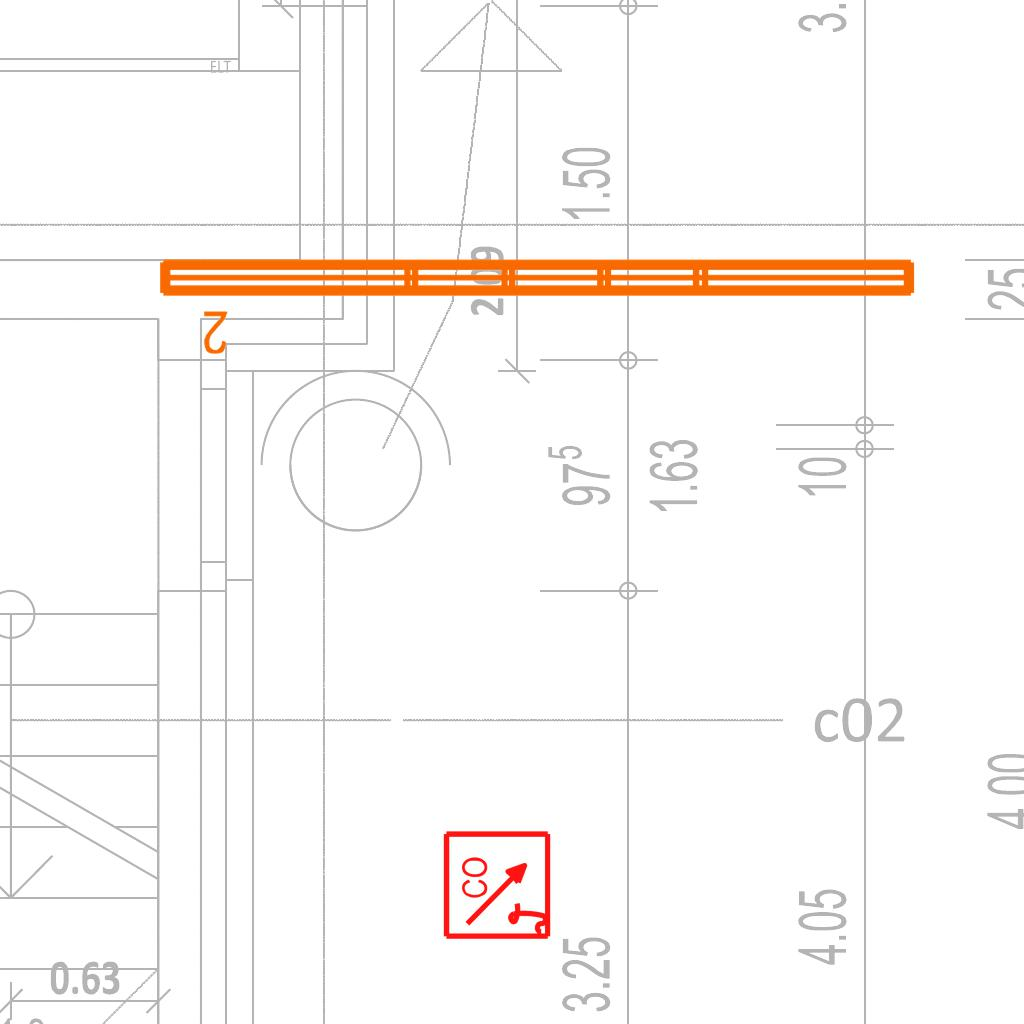Ambulanz_Pendelleuchte_LED: (151, 247, 925, 359)
ROA_Rauchmelder_optisch_mit_Signalgeber_(Sockelsirene): (442, 828, 555, 941)
